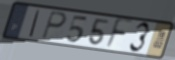3: (128, 22, 154, 54)
5: (66, 14, 90, 43), (88, 18, 111, 47)
F: (103, 17, 135, 51)
I: (28, 9, 41, 38)
P: (41, 10, 68, 40)
